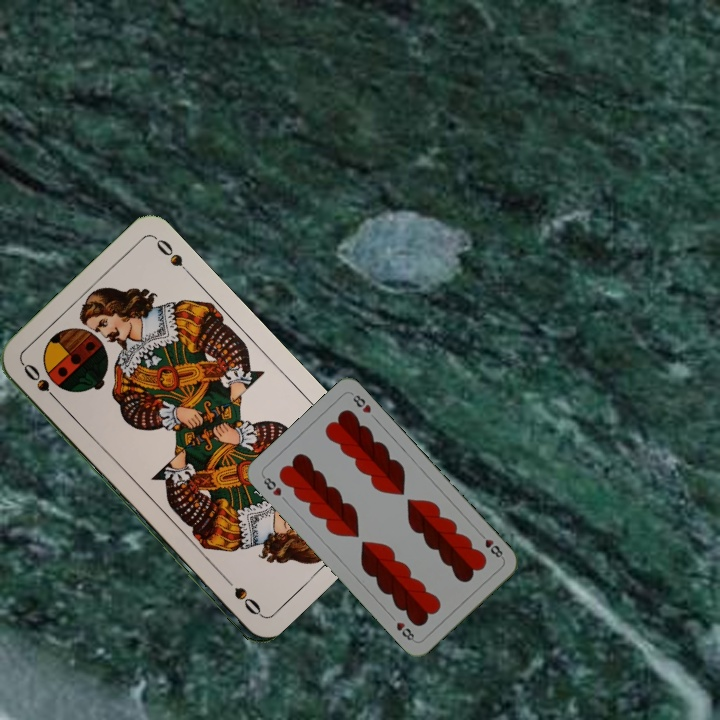H8: (475, 529, 506, 561), (258, 471, 284, 499)
SO: (18, 359, 64, 407)
